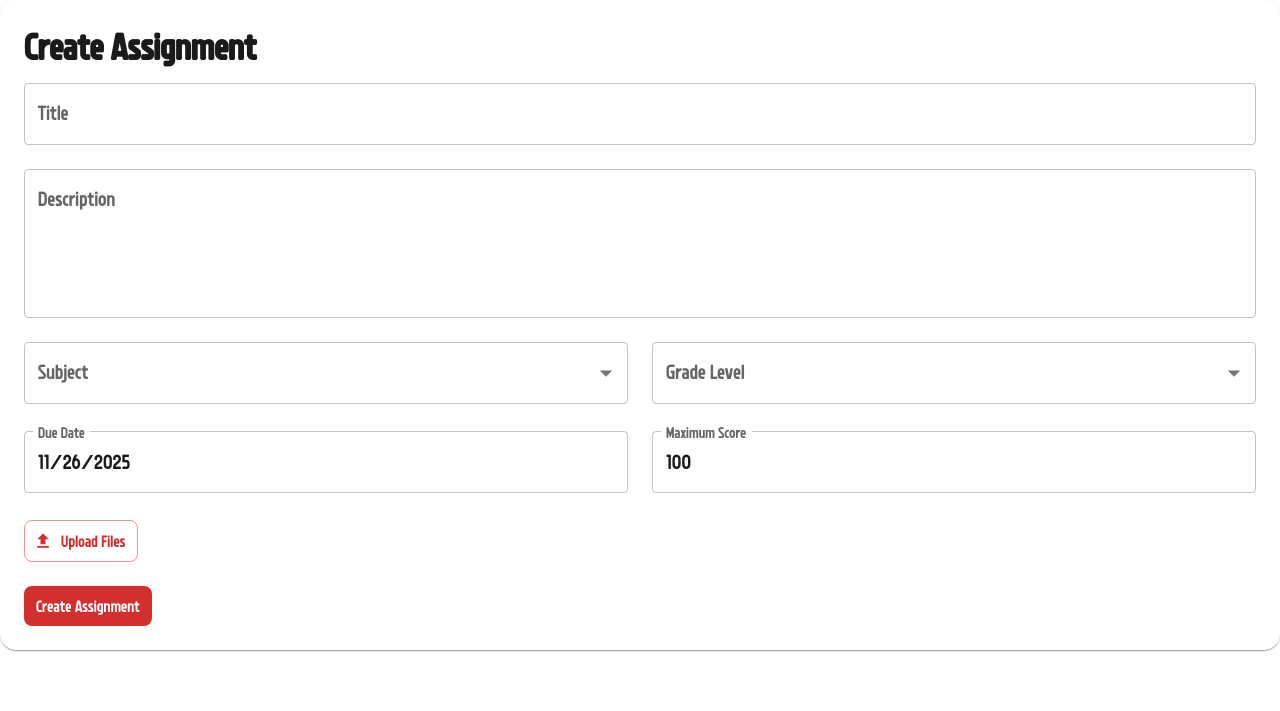
it: AssignmentForm › Form Validation › validates required fields
The width and height of the screenshot is (1280, 711).
Click the button "Create Assignment".
click(88, 606)  # box [24,586,152,626]
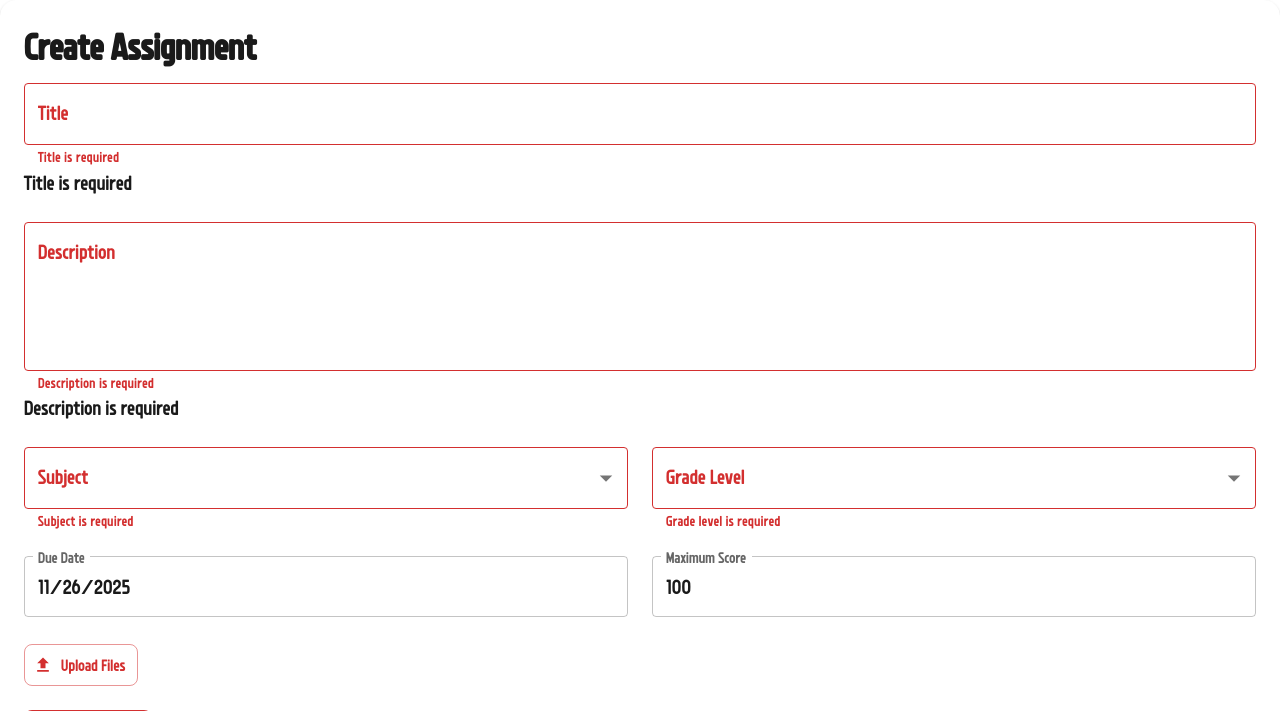
expect the text with test id "title-error" is shown: met, box [24,171,132,194]
expect the text with test id "description-error" is shown: met, box [24,396,179,419]
expect the text "Subject is required" is shown: met, box [38,513,134,529]
